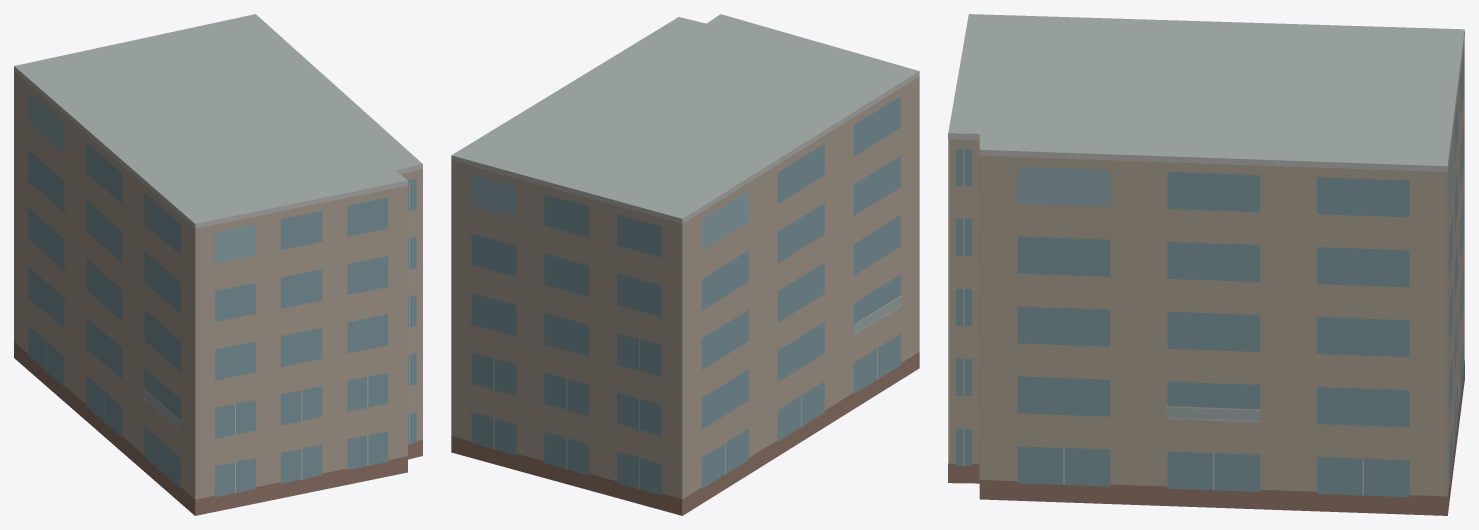
File: survey-upis-32754733.glb
3 views of the same model, side by side, from view 1: azimuth 30°, elevation 25°; view 2: azimuth 150°, elevation 25°; view 3: azimuth 270°, elevation 25° (orthographic). The views are drawn at different scales.
Visible parts, largest first — view 1: survey-upis-32754733.tmp; view 2: survey-upis-32754733.tmp; view 3: survey-upis-32754733.tmp.
Part boxes in pixels (bbox=[...]): survey-upis-32754733.tmp: bbox=[14, 14, 422, 515]; survey-upis-32754733.tmp: bbox=[451, 14, 919, 515]; survey-upis-32754733.tmp: bbox=[948, 14, 1464, 515].
Size of the model in its own units: 13.41 by 14.35 by 19.23.
